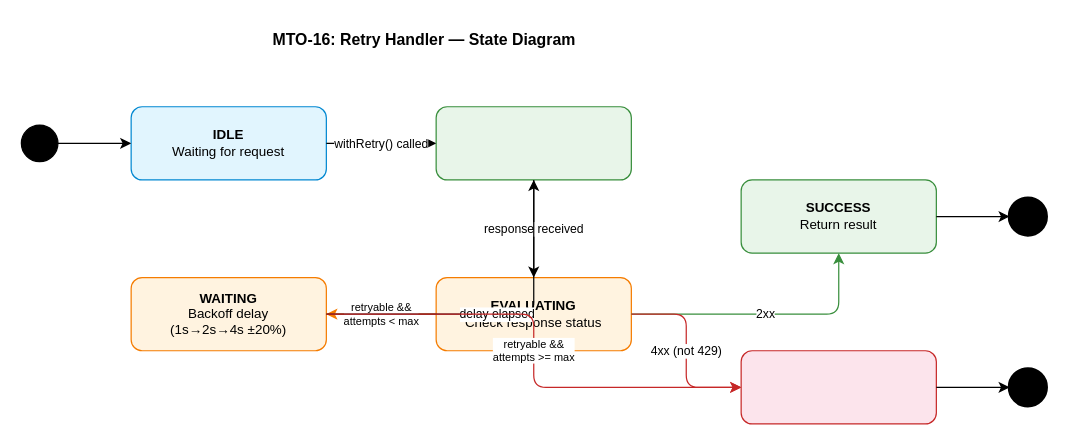
Some shapes in this 1069 by 445 pixel diagram are drawn without their labels. The shapes that lost their labels are listed below. From the top down, each one's centre as x and y in pixels, then its label:
point 533,143: EXECUTING HTTP request in flight
point 838,387: FAILED Throw exception
